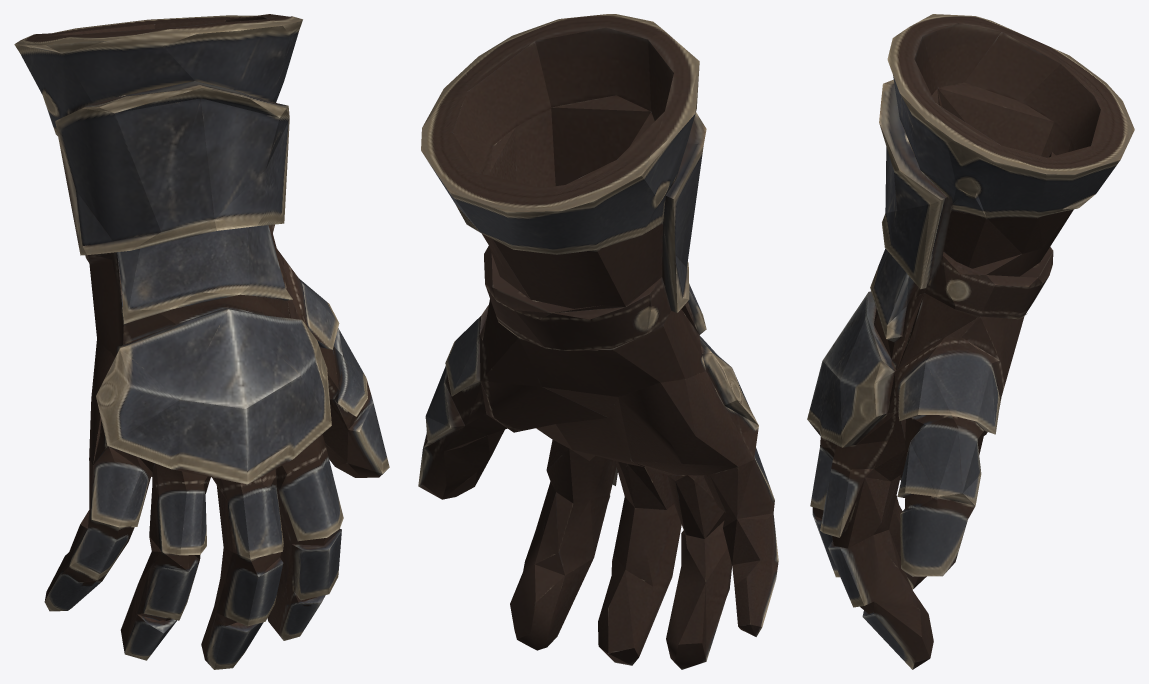
Rendered from SM_SharedGear_Gloves.fbx.
The picture shows the model from 3 angles, left to right: view 1: azimuth 30°, elevation 25°; view 2: azimuth 150°, elevation 25°; view 3: azimuth 270°, elevation 25°; orthographic projection. The views are drawn at different scales.
Parts seen in each view (by area): view 1: SM_SharedGear_Gloves; view 2: SM_SharedGear_Gloves; view 3: SM_SharedGear_Gloves.
Boxes of the visible parts, x1,y1,x2,y2 form: SM_SharedGear_Gloves: (14, 14, 389, 669); SM_SharedGear_Gloves: (418, 14, 778, 669); SM_SharedGear_Gloves: (807, 14, 1134, 669).
Bounding box in the file's own units: 21.72 × 40 × 20.18.
